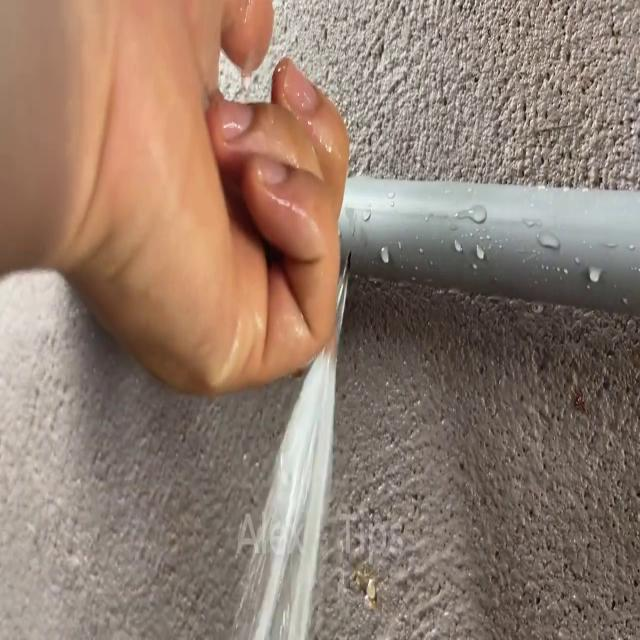leak: (229, 257, 347, 640)
